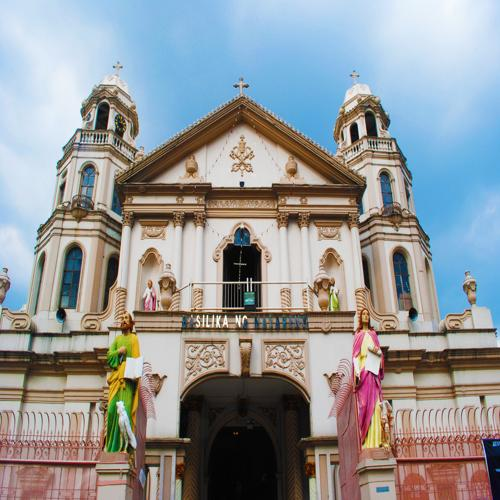Quiapo Church: (29, 55, 448, 475)
